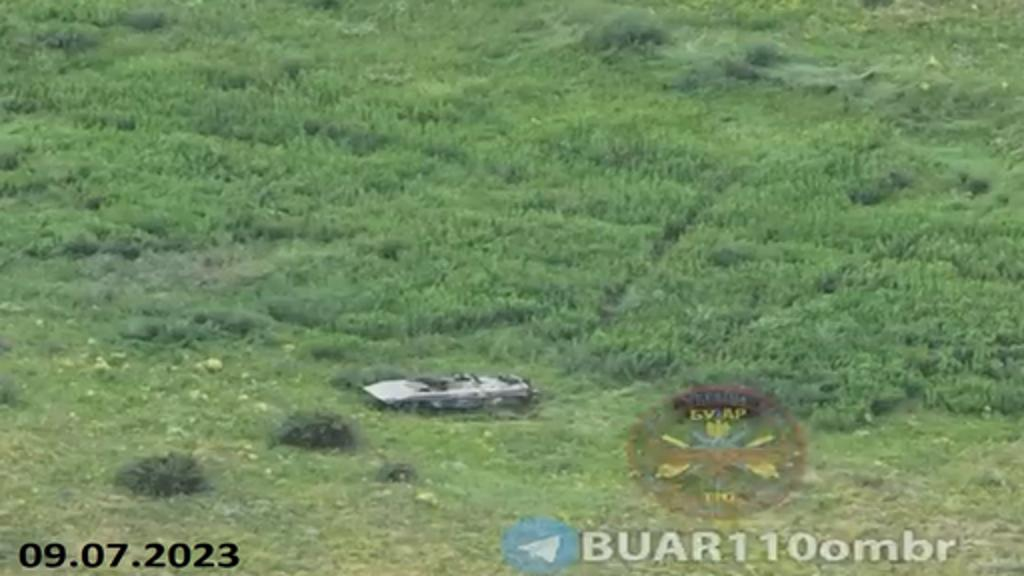APC-IFV: (358, 356, 542, 444)
